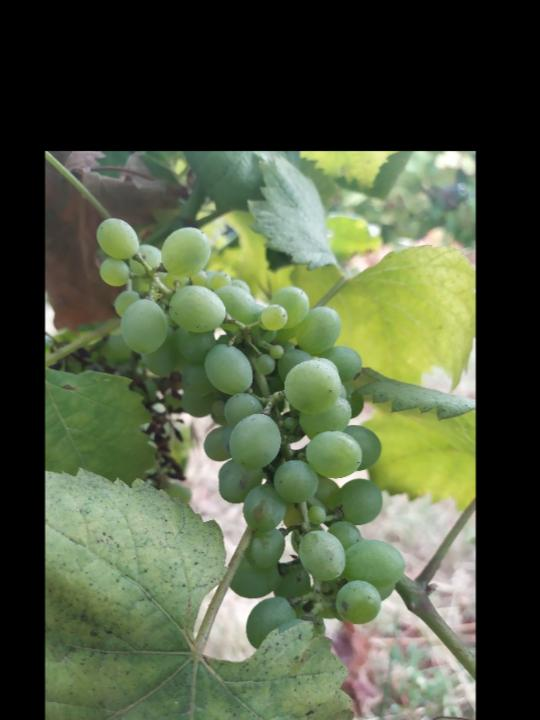grape: (94, 216, 408, 650)
